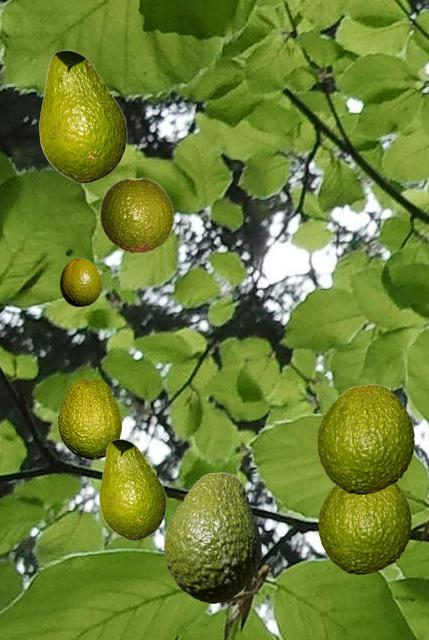avocado: (164, 472, 260, 602), (39, 50, 126, 182), (317, 384, 413, 493), (318, 483, 410, 573), (99, 439, 165, 539), (99, 177, 174, 252), (58, 378, 120, 458), (60, 258, 100, 305)
